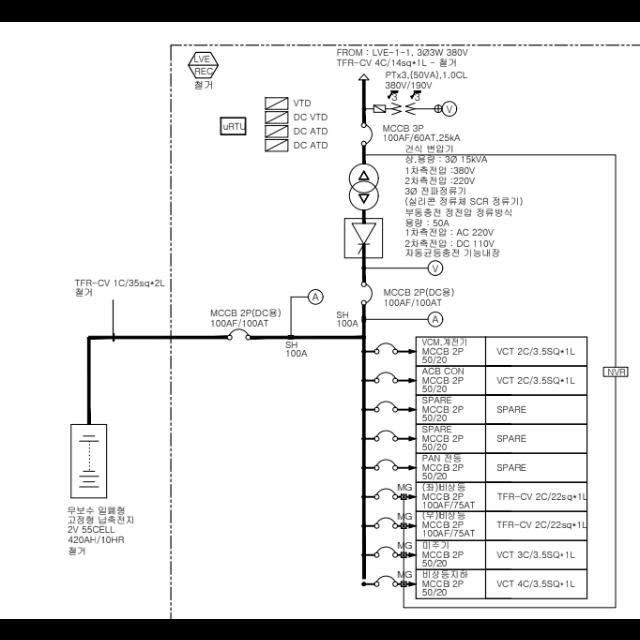A: (307, 288, 323, 304), (428, 310, 442, 326)
CH: (359, 72, 368, 80)
MCCB: (361, 281, 374, 305), (374, 342, 398, 354), (374, 371, 398, 383), (374, 400, 398, 412), (374, 429, 398, 441), (374, 459, 398, 471), (374, 488, 398, 500), (374, 517, 398, 529), (373, 546, 397, 558), (374, 575, 398, 587), (227, 328, 251, 340), (362, 122, 372, 144)
PT: (392, 100, 414, 114)
V: (441, 100, 457, 116), (428, 260, 442, 274)
VS: (434, 104, 442, 112)
